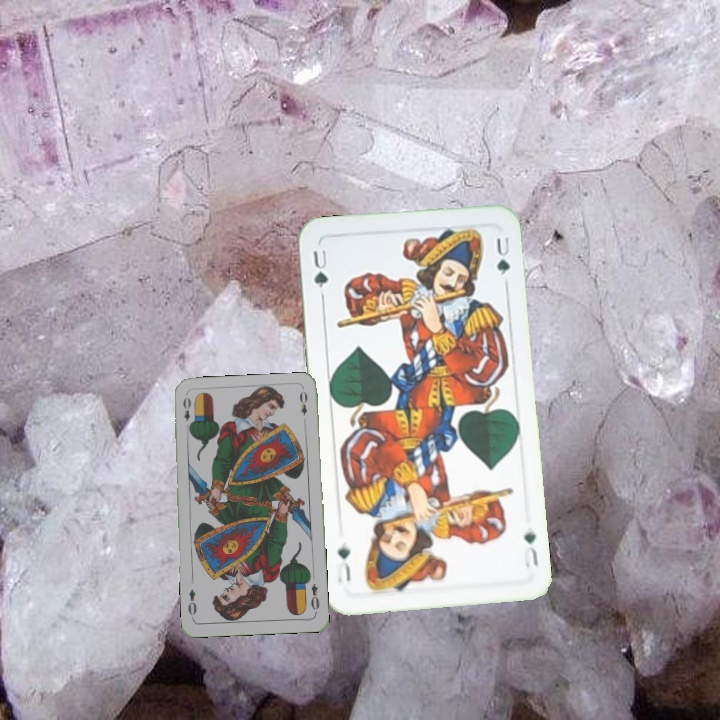EO: (179, 393, 195, 433), (307, 580, 322, 616)
GU: (309, 245, 331, 292), (519, 528, 541, 570)
